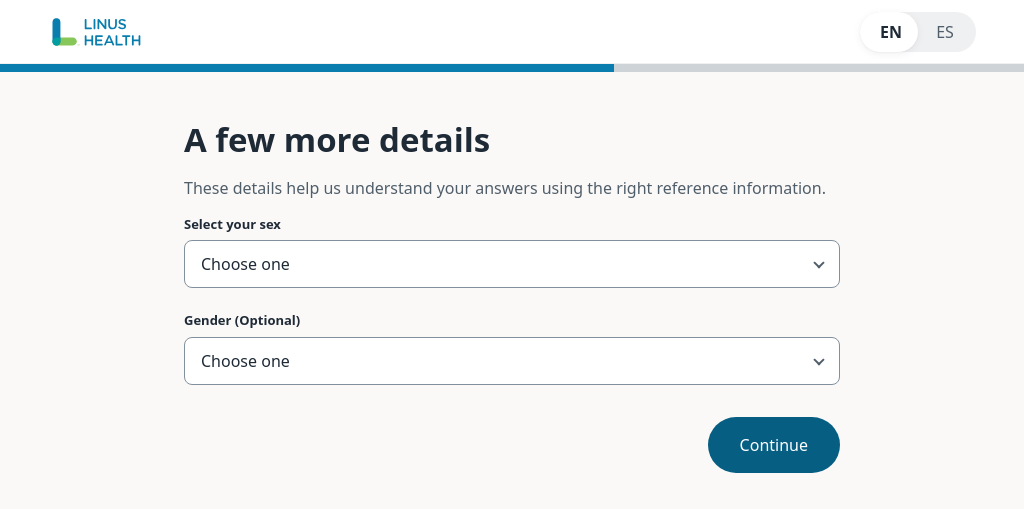
Scenario: GenderIdentityPage › shows an error on sex when Continue is clicked unanswered, using the field-error variant rather than a native validation bubble, and never shows one for the opt
Expected: the text "Please select a sex." is not shown
Click the button "Continue": (774,445) [708,417,840,473]
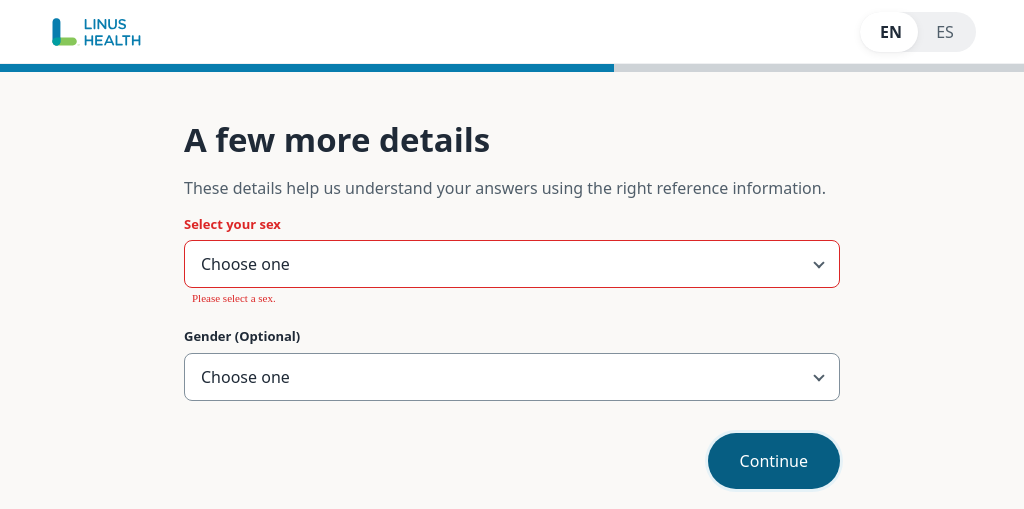
Result: the text "Please select a sex." is shown at [192,292,276,304]
